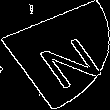N_NW: (15, 23, 95, 87)
